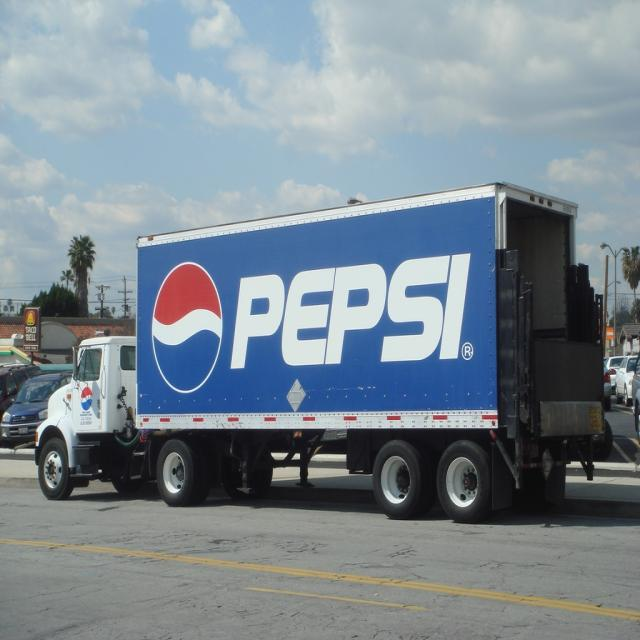pepsi: (147, 260, 227, 397), (80, 389, 94, 411)
